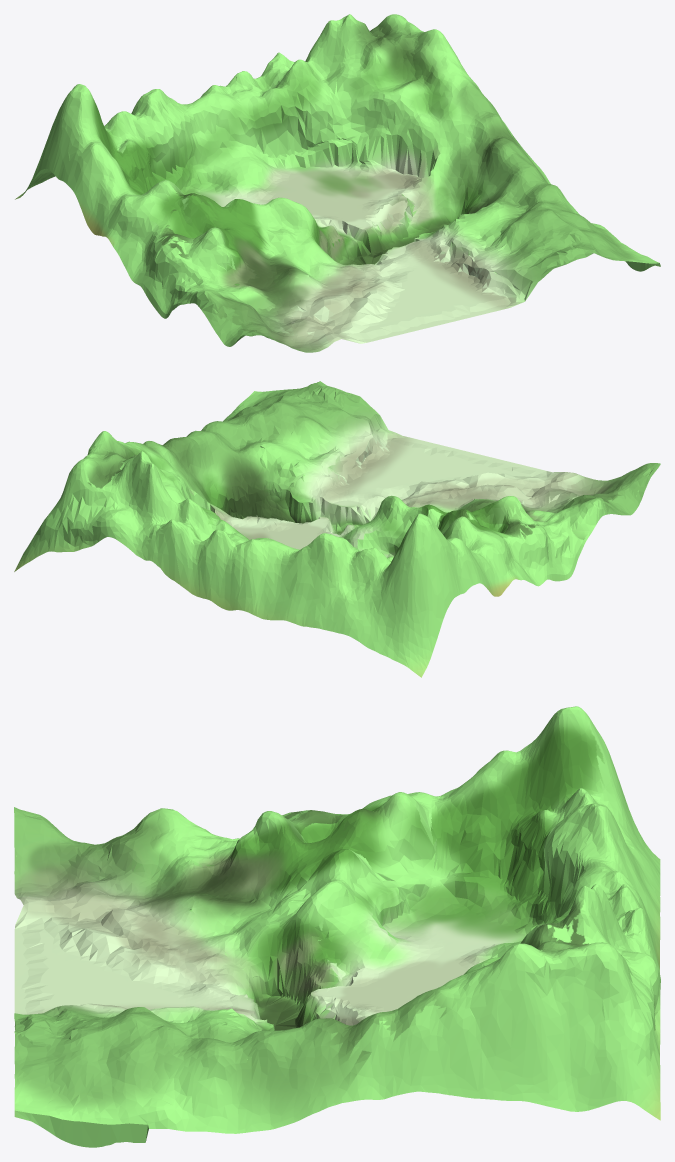
The model's file is TerrainA1.fbx.
3 views of the same model, one above another, from view 1: azimuth 30°, elevation 25°; view 2: azimuth 150°, elevation 25°; view 3: azimuth 270°, elevation 25° (orthographic). The views are drawn at different scales.
Parts seen in each view (by area): view 1: Terrain1; view 2: Terrain1; view 3: Terrain1.
Boxes of the visible parts, x1=… form: Terrain1: x1=15, y1=14, x2=660, y2=352; Terrain1: x1=14, y1=381, x2=660, y2=677; Terrain1: x1=14, y1=706, x2=660, y2=1147.
Size of the model in its own units: 20037 by 7112 by 20280.
Materials: 1 (1 with a texture image).
